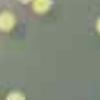yellow: (0, 9, 18, 34), (31, 0, 55, 17), (1, 87, 31, 100), (94, 14, 100, 37), (17, 0, 32, 6)
